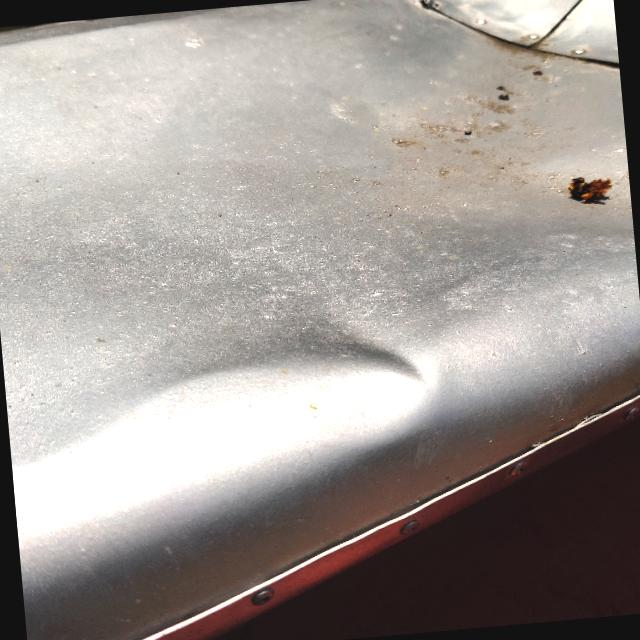dent: (289, 274, 457, 428)
